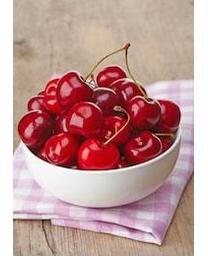cherry: (17, 110, 56, 148), (77, 136, 119, 170), (66, 101, 102, 138), (42, 131, 78, 167), (57, 72, 92, 107), (124, 132, 162, 164), (126, 96, 160, 131), (106, 80, 145, 109), (97, 66, 127, 90), (92, 88, 118, 114)
